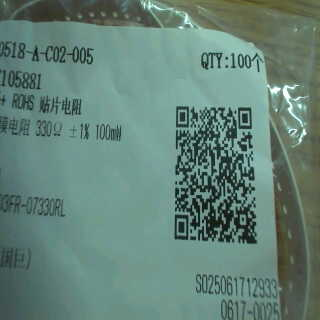330R: (32, 116, 64, 142)
